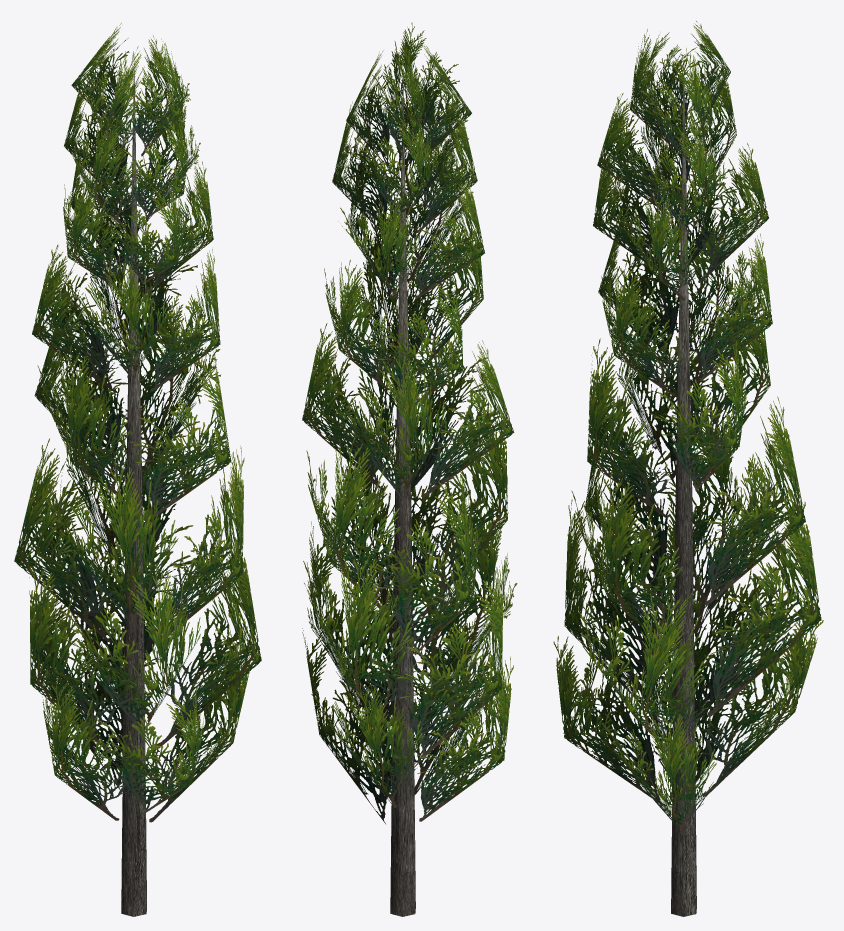
Rendered from Tree-A-03.fbx.
The picture shows the model from 3 angles, left to right: view 1: azimuth 30°, elevation 25°; view 2: azimuth 150°, elevation 25°; view 3: azimuth 270°, elevation 25°; orthographic projection.
Parts seen in each view (by area): view 1: Tree-A-03; view 2: Tree-A-03; view 3: Tree-A-03.
Part boxes in pixels (box(x1,y1,x2,y2)): Tree-A-03: box(14, 23, 261, 916); Tree-A-03: box(302, 22, 517, 916); Tree-A-03: box(553, 21, 823, 916).
Bounding box in the file's own units: 1 × 3.78 × 1.06.
